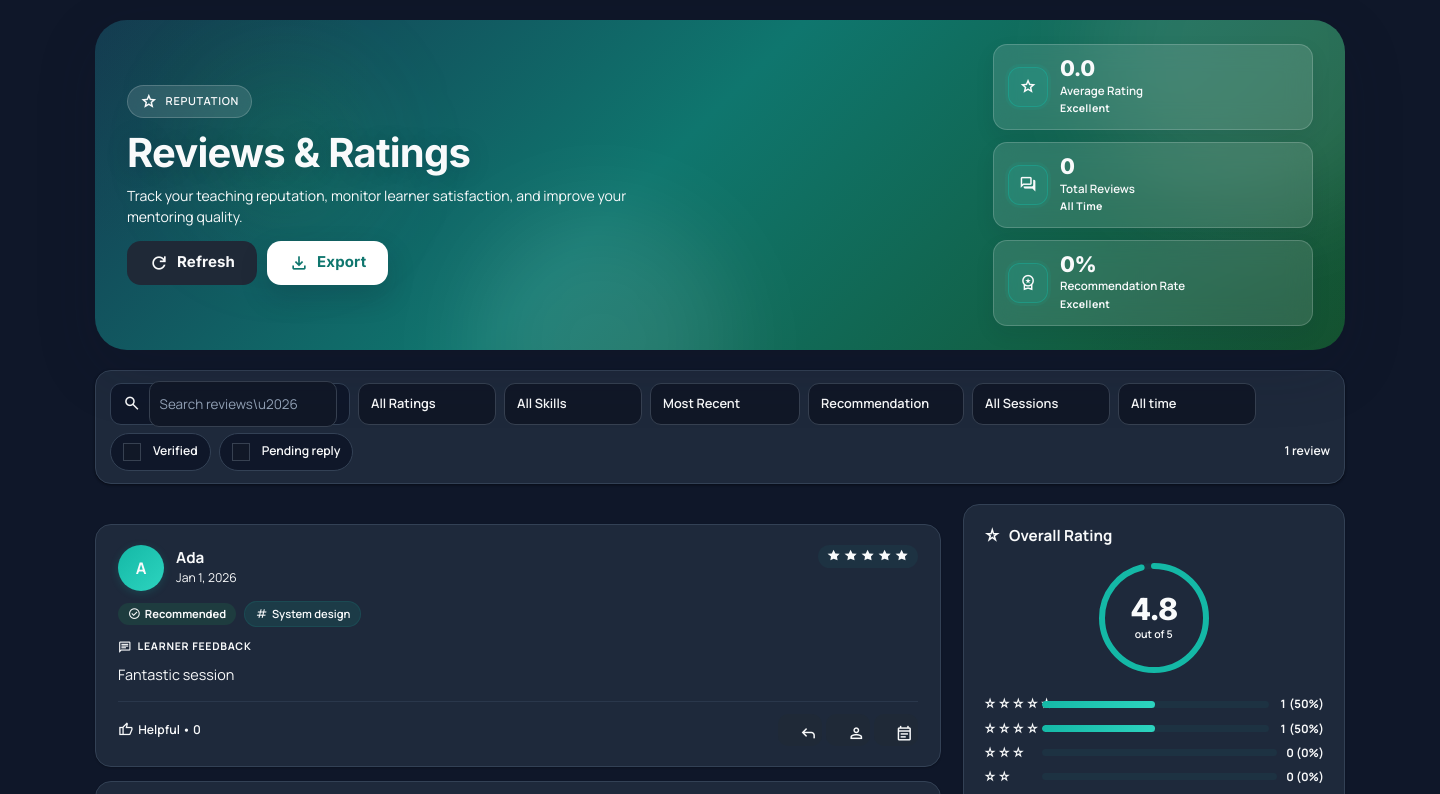
Test case: MentorReviewsPage › closes the Review Details drawer via Escape
The image size is (1440, 794).
Click the text "Fantastic session". click: [176, 675]
box: [118,665,234,684]
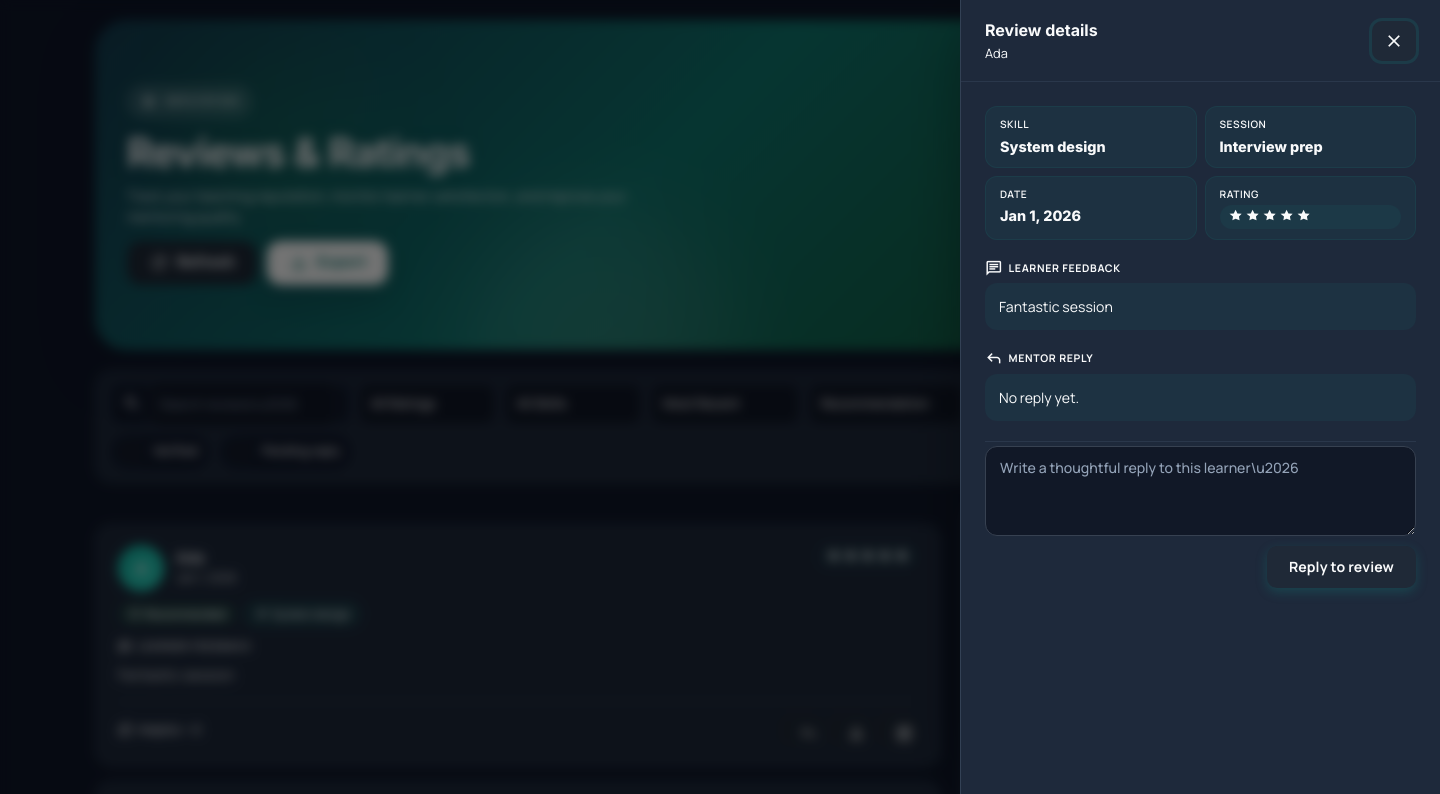
expect the heading "Review details" is shown: met, box [985,20,1098,40]
Escape dismisses the drawer.
Press Escape
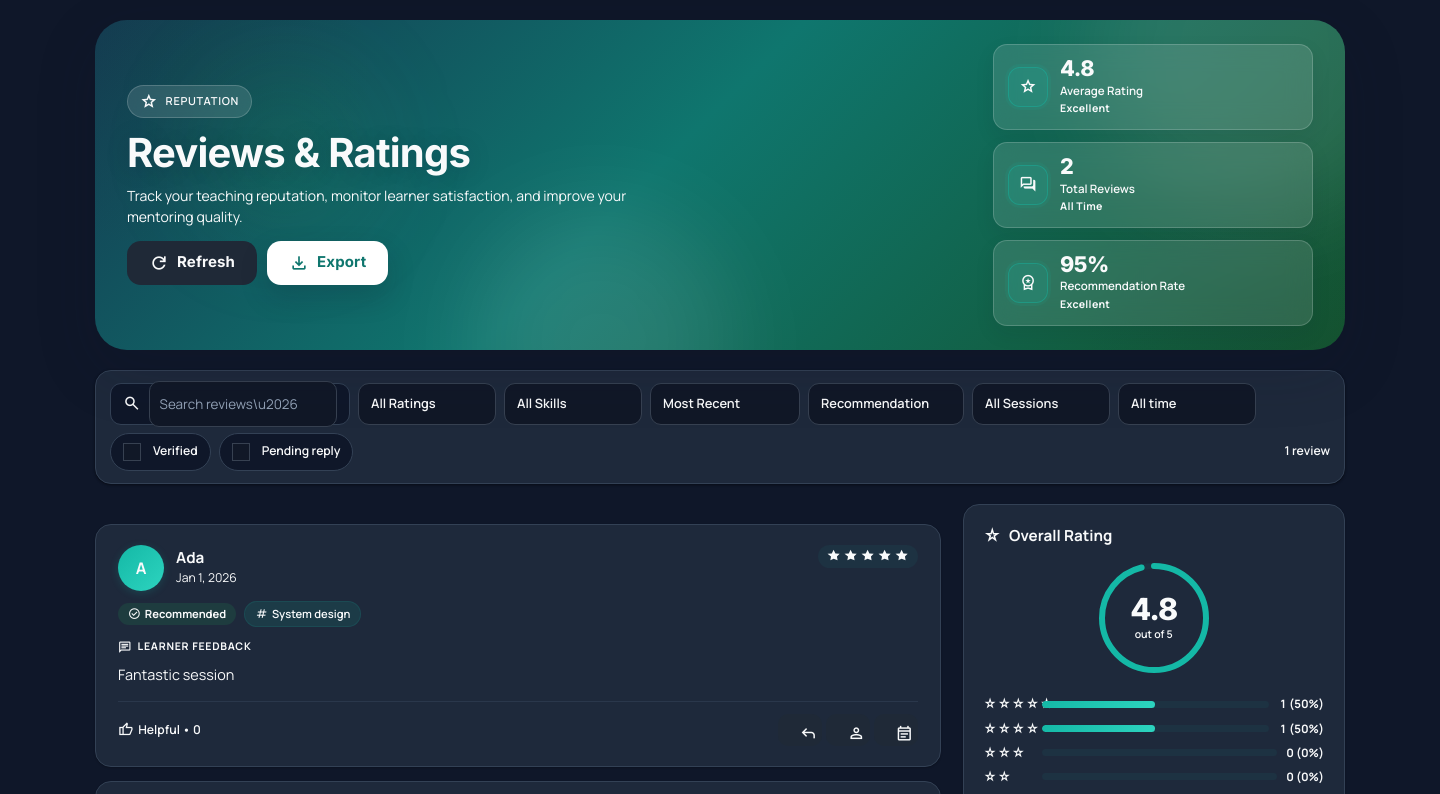
expect the heading "Review details" is gone: met
